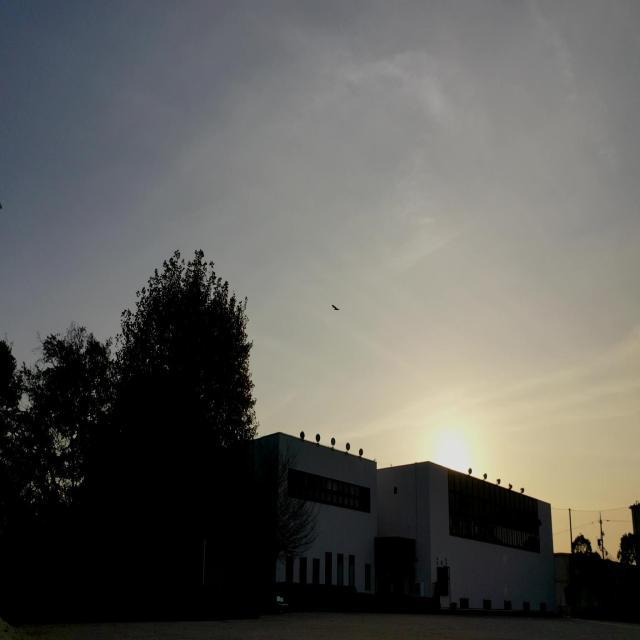Birds: (326, 296, 346, 318)
